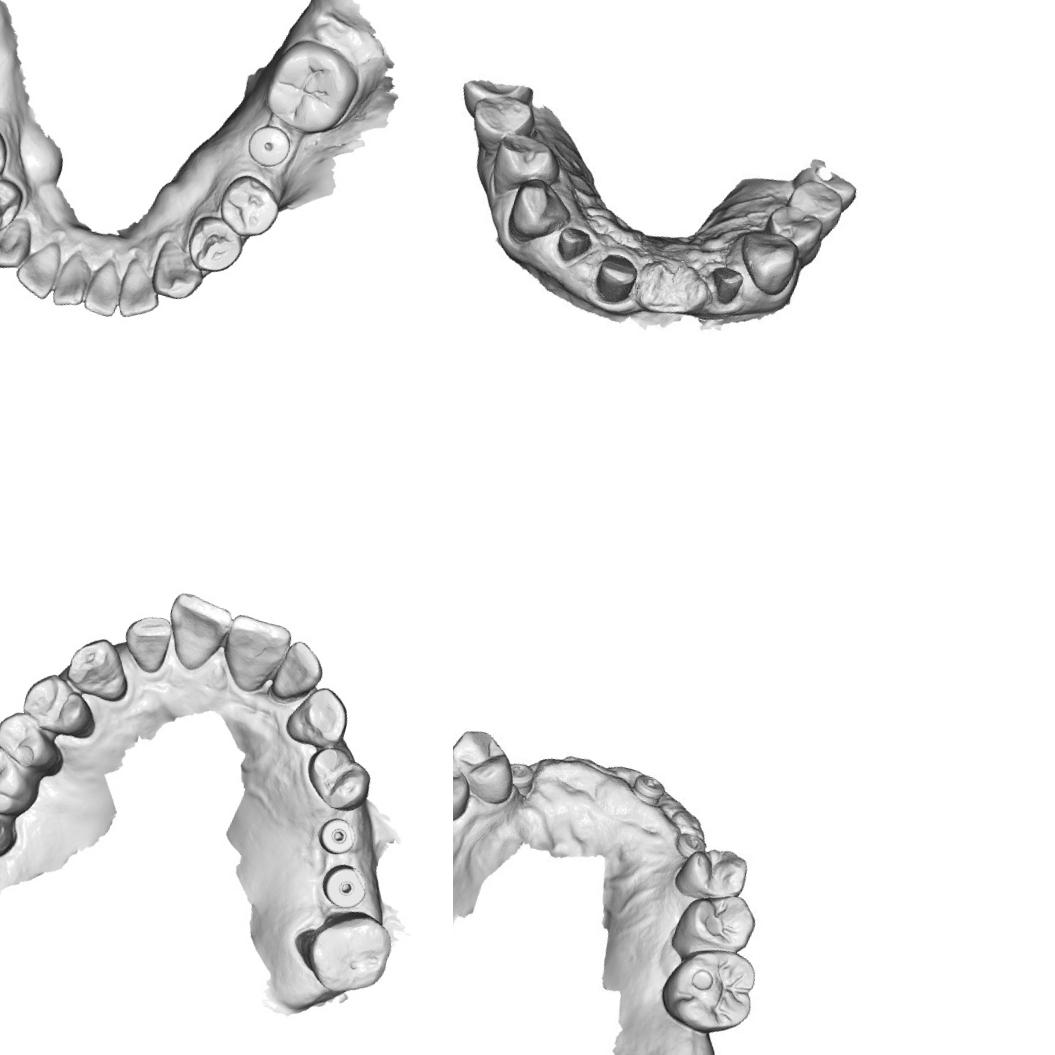canine: (59, 628, 138, 707), (279, 679, 356, 756), (735, 228, 808, 302), (505, 176, 573, 247), (145, 235, 212, 305), (0, 206, 37, 273)
crown: (590, 246, 646, 312), (549, 217, 593, 265), (706, 261, 747, 303)
implant: (239, 118, 297, 172), (318, 858, 368, 910), (312, 812, 361, 860), (626, 764, 672, 813), (670, 818, 716, 866), (504, 754, 544, 799)
incisor: (210, 606, 293, 700), (156, 586, 236, 677), (265, 634, 328, 708), (117, 604, 178, 674), (112, 252, 169, 324), (10, 232, 66, 302), (48, 246, 95, 312), (81, 255, 127, 318)
molar: (648, 936, 764, 1044), (256, 31, 367, 142), (291, 899, 398, 1004), (0, 737, 45, 821), (0, 787, 23, 870)
premolar: (658, 882, 764, 973), (14, 664, 104, 746), (453, 715, 528, 810), (672, 837, 758, 909), (296, 740, 377, 816), (463, 88, 546, 160), (212, 168, 286, 243), (0, 703, 69, 776), (488, 131, 556, 200), (182, 210, 250, 278), (764, 197, 834, 257), (788, 170, 850, 226), (453, 744, 480, 828), (0, 169, 27, 237), (0, 118, 14, 189)
